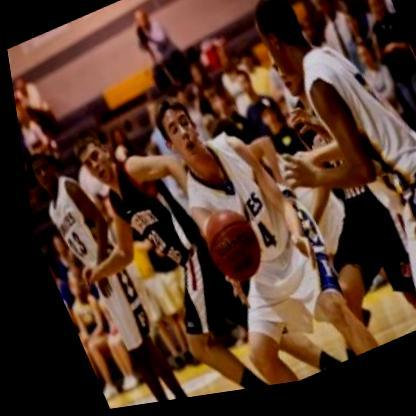basketball: (184, 203, 262, 295)
